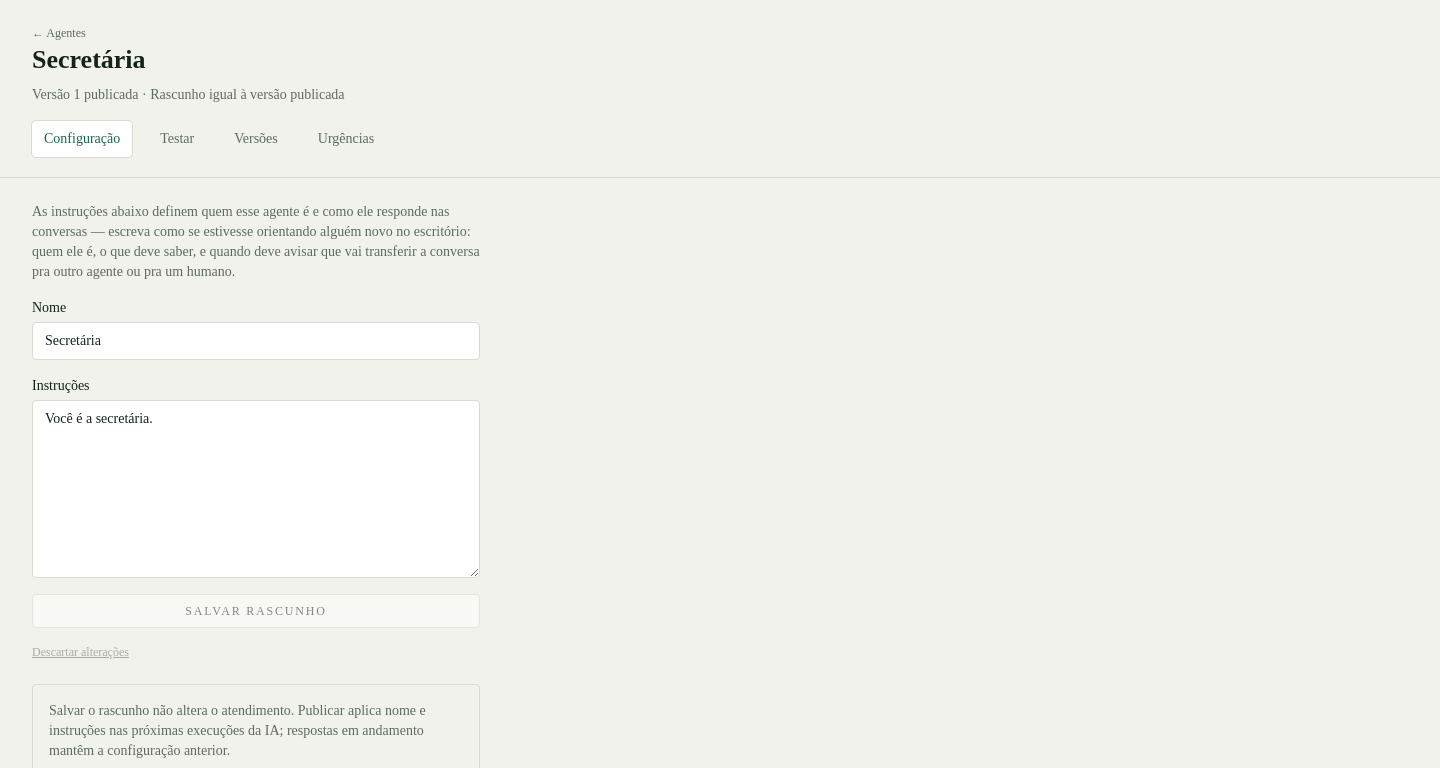
Test case: AgentDetail › compara versões e confirma substituição do rascunho sem publicar
Expected: the field labelled "Nome" is shown, x1=32 y1=322 x2=480 y2=360
Click the button "Versões" at (256, 138), box x1=222 y1=120 x2=290 y2=156
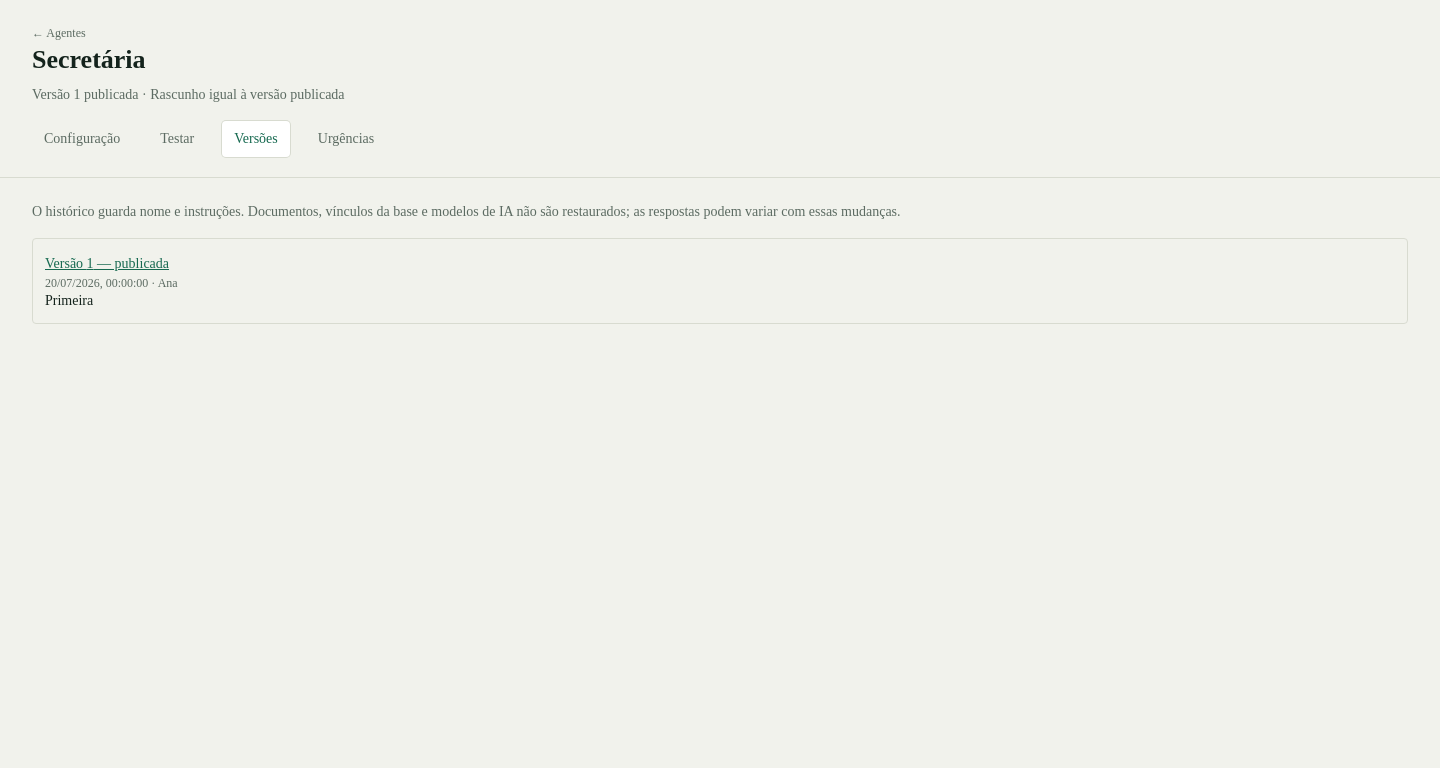
Click the button "Versão 1 — publicada" at (107, 264), box x1=45 y1=254 x2=169 y2=274
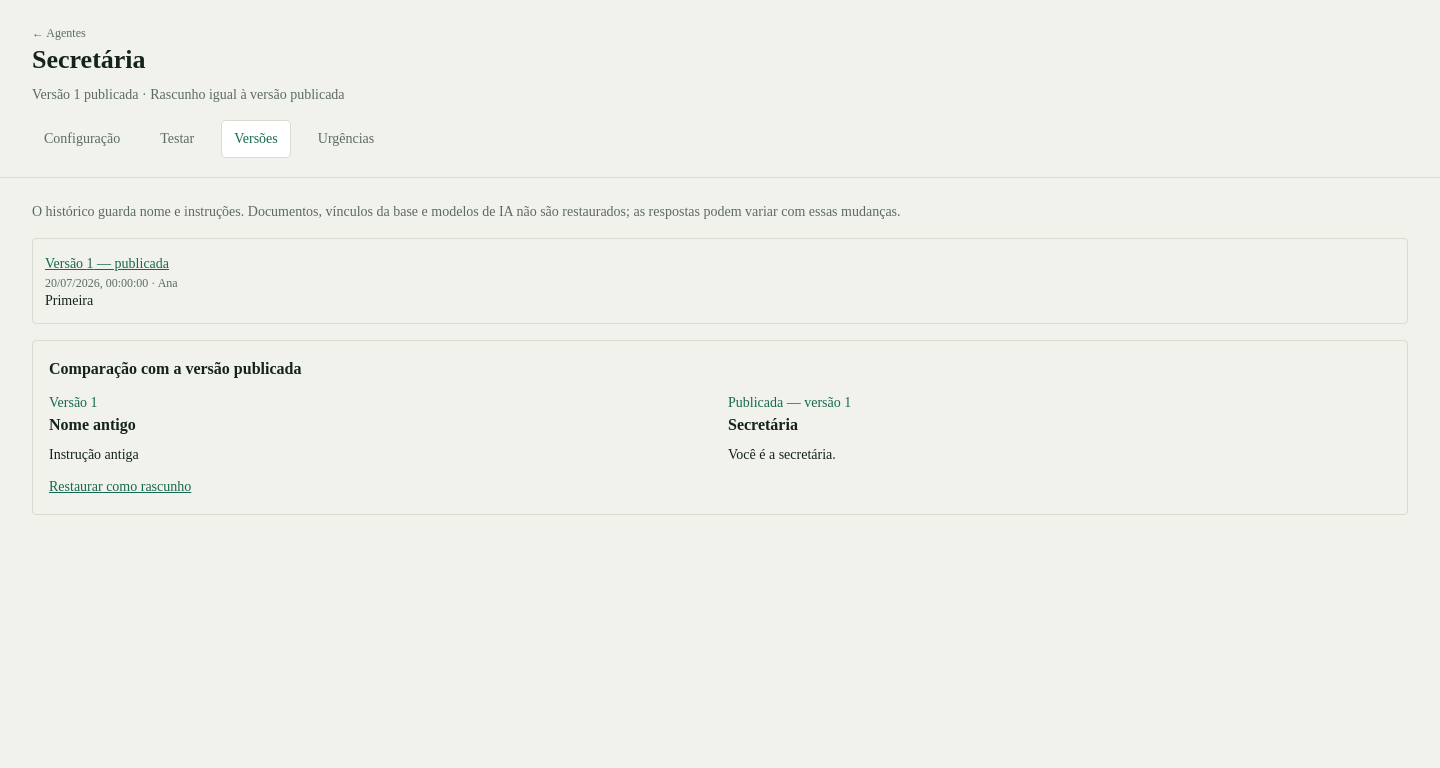
Result: the text "Instrução antiga" is shown at x1=49 y1=446 x2=139 y2=462
Result: the text "Você é a secretária." is shown at x1=728 y1=446 x2=836 y2=462
Click the button "Restaurar como rascunho" at (120, 486), box x1=49 y1=476 x2=191 y2=496
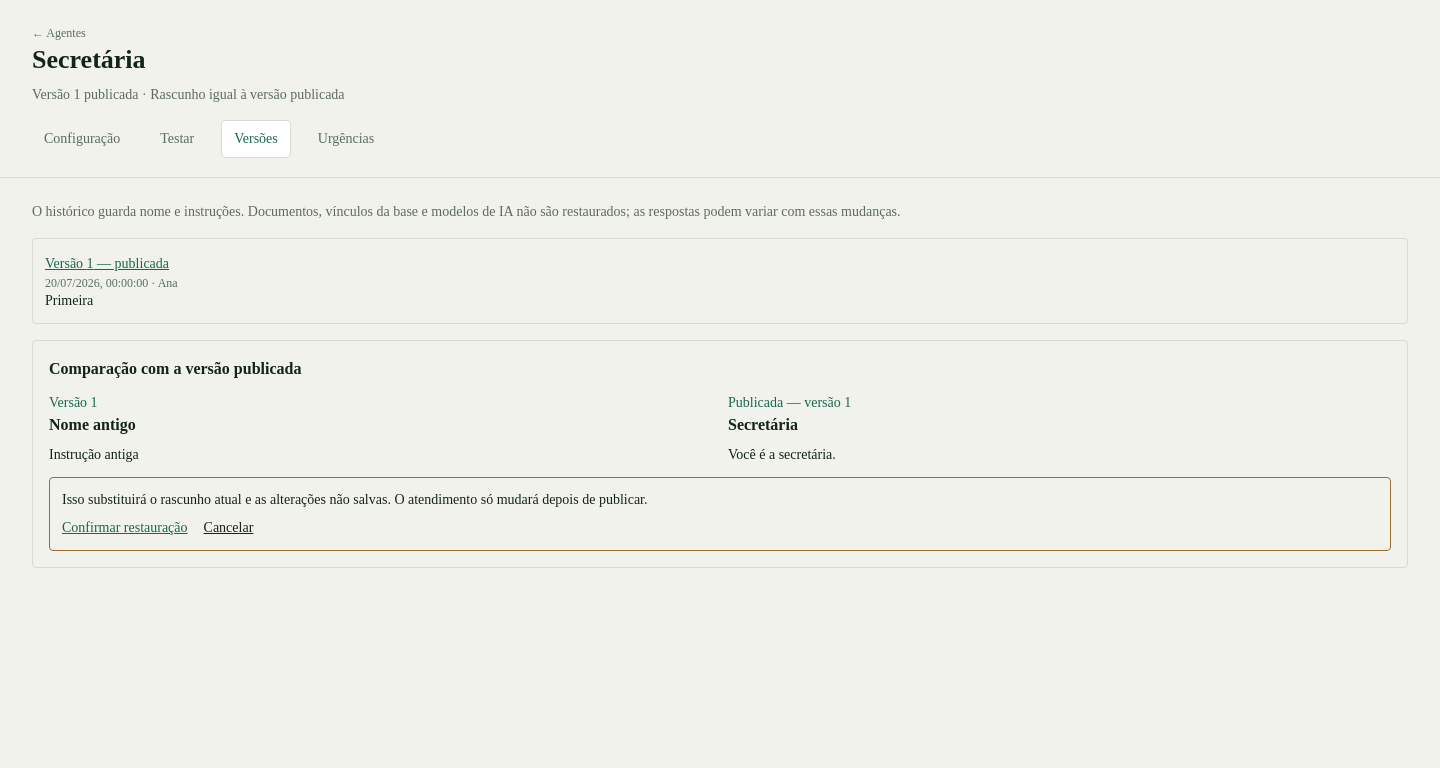
Click the button "Confirmar restauração" at (125, 528), box x1=62 y1=518 x2=188 y2=538
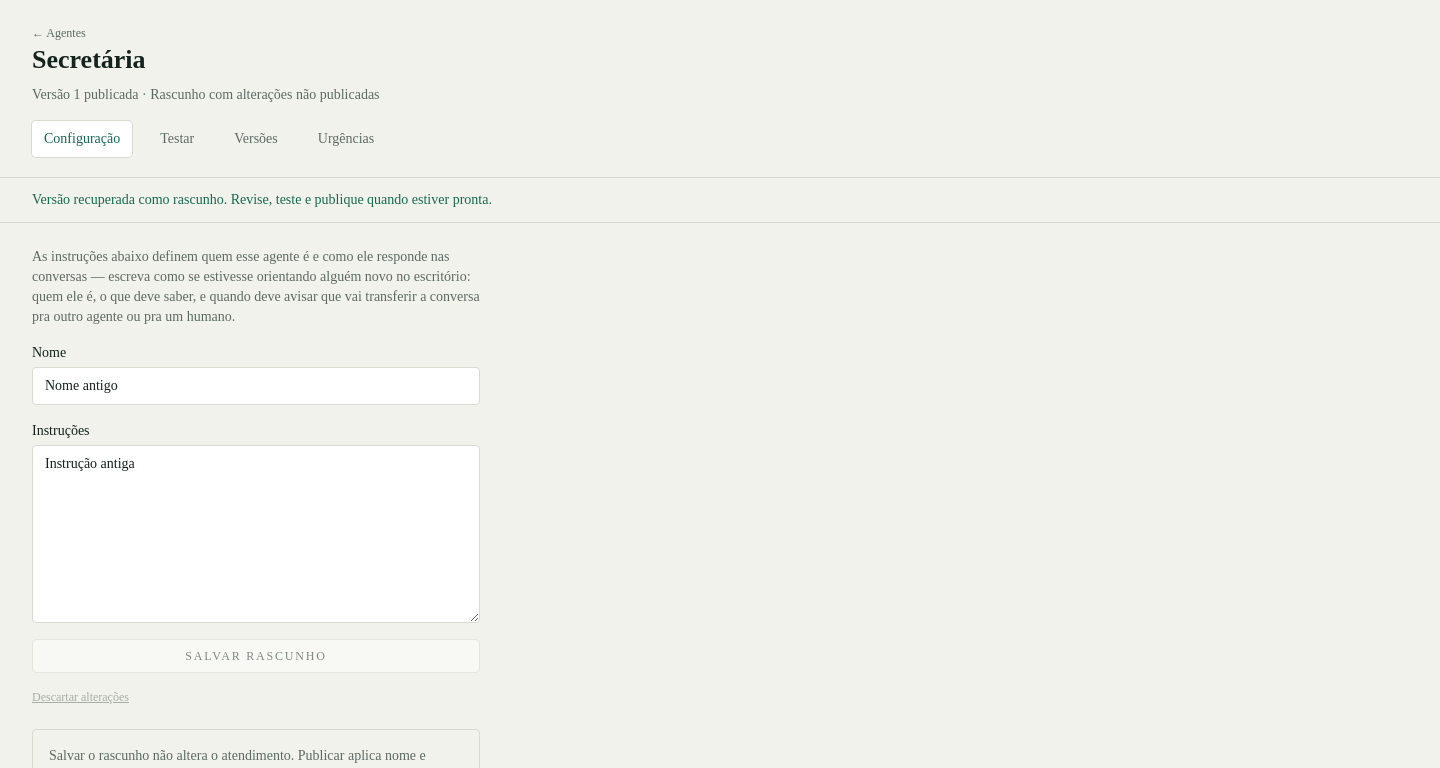
Expected: the heading reads "Secretária", x1=32 y1=45 x2=146 y2=74
Result: the field showing "Nome antigo" is shown at x1=32 y1=366 x2=480 y2=404
